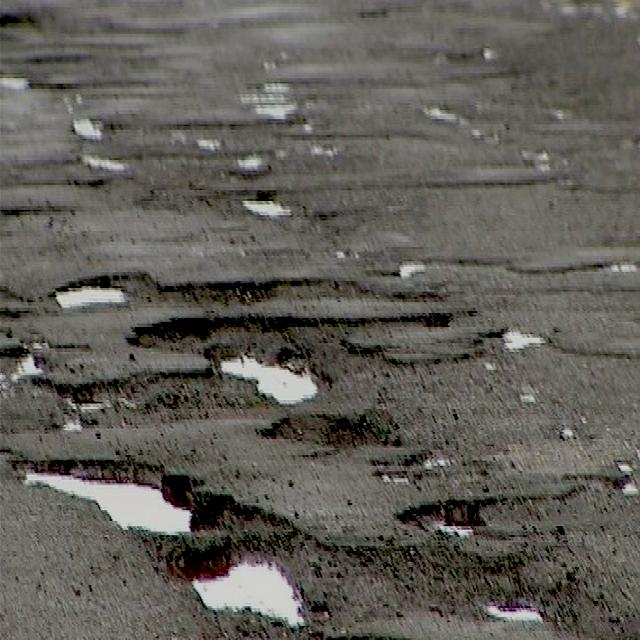Pothole: (4, 263, 639, 640)
